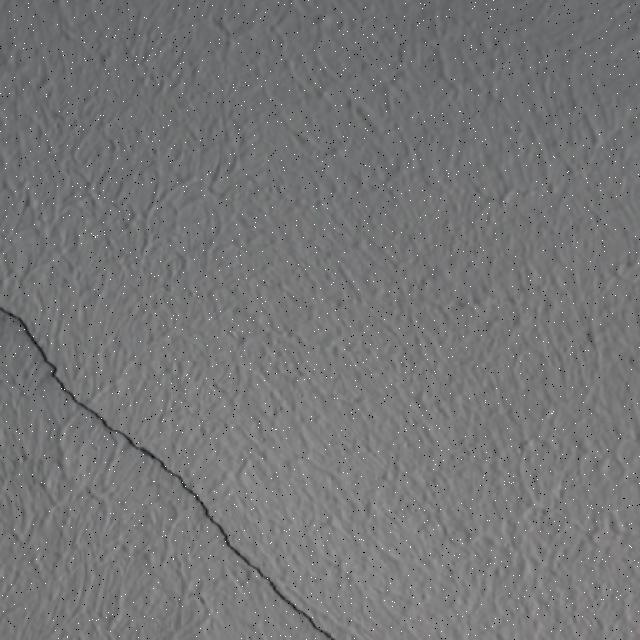moderate crack: (0, 412, 47, 547)
severe crack: (5, 295, 351, 634), (232, 554, 350, 635), (188, 491, 235, 546), (43, 361, 60, 382)
